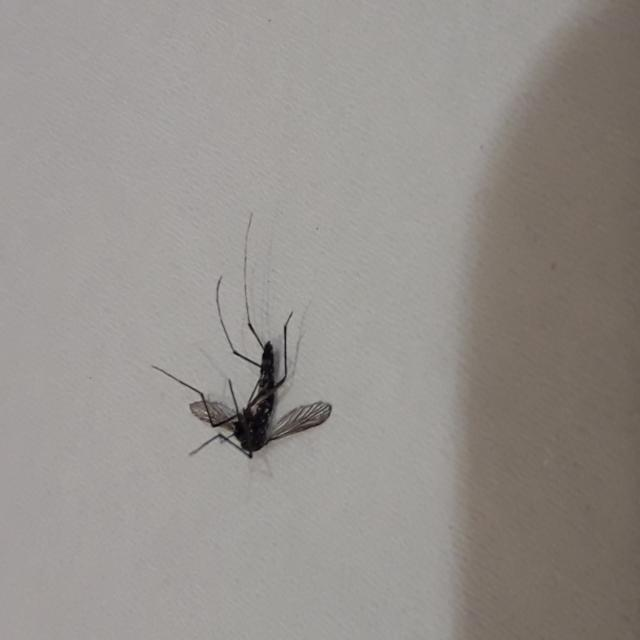albopictus: (150, 221, 337, 470)
